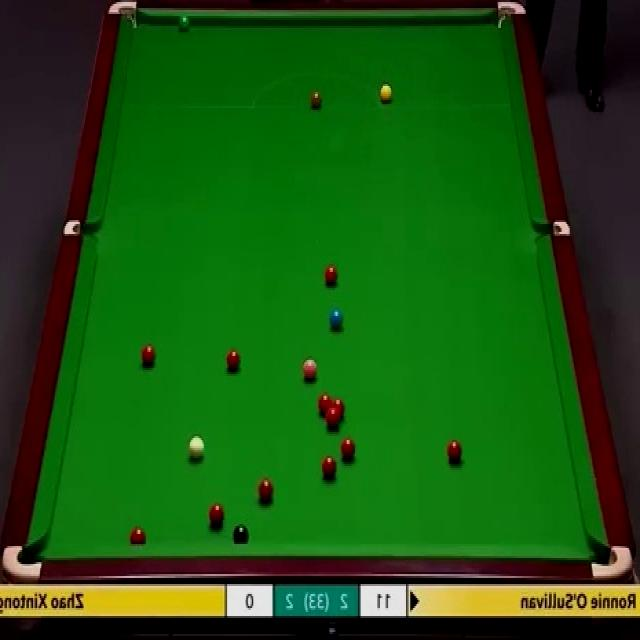black-ball: (233, 524, 251, 546)
blue-ball: (329, 308, 345, 333)
brown-ball: (310, 88, 324, 111)
green-ball: (176, 13, 191, 32)
pink-ball: (302, 354, 317, 382)
red-ball: (224, 347, 242, 375), (257, 478, 275, 505), (321, 455, 338, 483), (446, 439, 463, 466), (209, 503, 226, 529), (340, 436, 356, 461), (322, 266, 338, 290), (141, 343, 156, 368), (318, 394, 332, 418), (130, 526, 146, 546), (326, 410, 339, 430), (332, 398, 345, 418)
white-ball: (188, 434, 205, 462)
yellow-ball: (380, 83, 394, 103)
